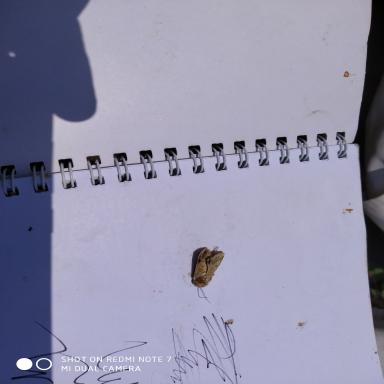abw: (187, 244, 227, 307)
